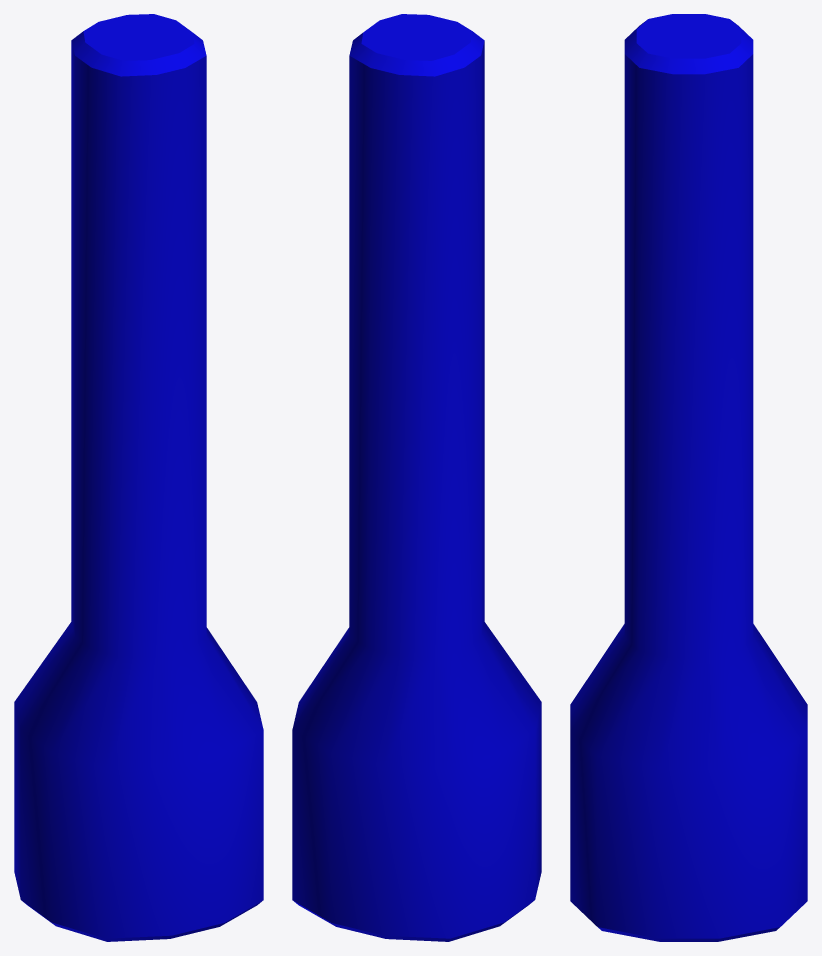
File: blueFlashlight.fbx
The picture shows the model from 3 angles, left to right: view 1: azimuth 30°, elevation 25°; view 2: azimuth 150°, elevation 25°; view 3: azimuth 270°, elevation 25°; orthographic projection.
Visible parts, largest first — view 1: blueFlashlight1; view 2: blueFlashlight1; view 3: blueFlashlight1.
Part boxes in pixels (bbox=[...]): blueFlashlight1: bbox=[14, 14, 263, 941]; blueFlashlight1: bbox=[292, 14, 541, 941]; blueFlashlight1: bbox=[570, 14, 807, 941].
Bounding box in the file's own units: 0.1136 × 0.4506 × 0.1131.
